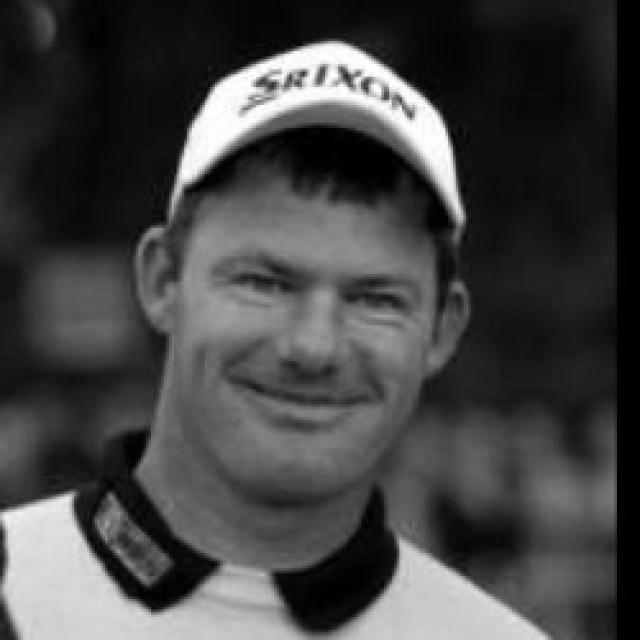real: (161, 134, 452, 491), (227, 262, 425, 331)
